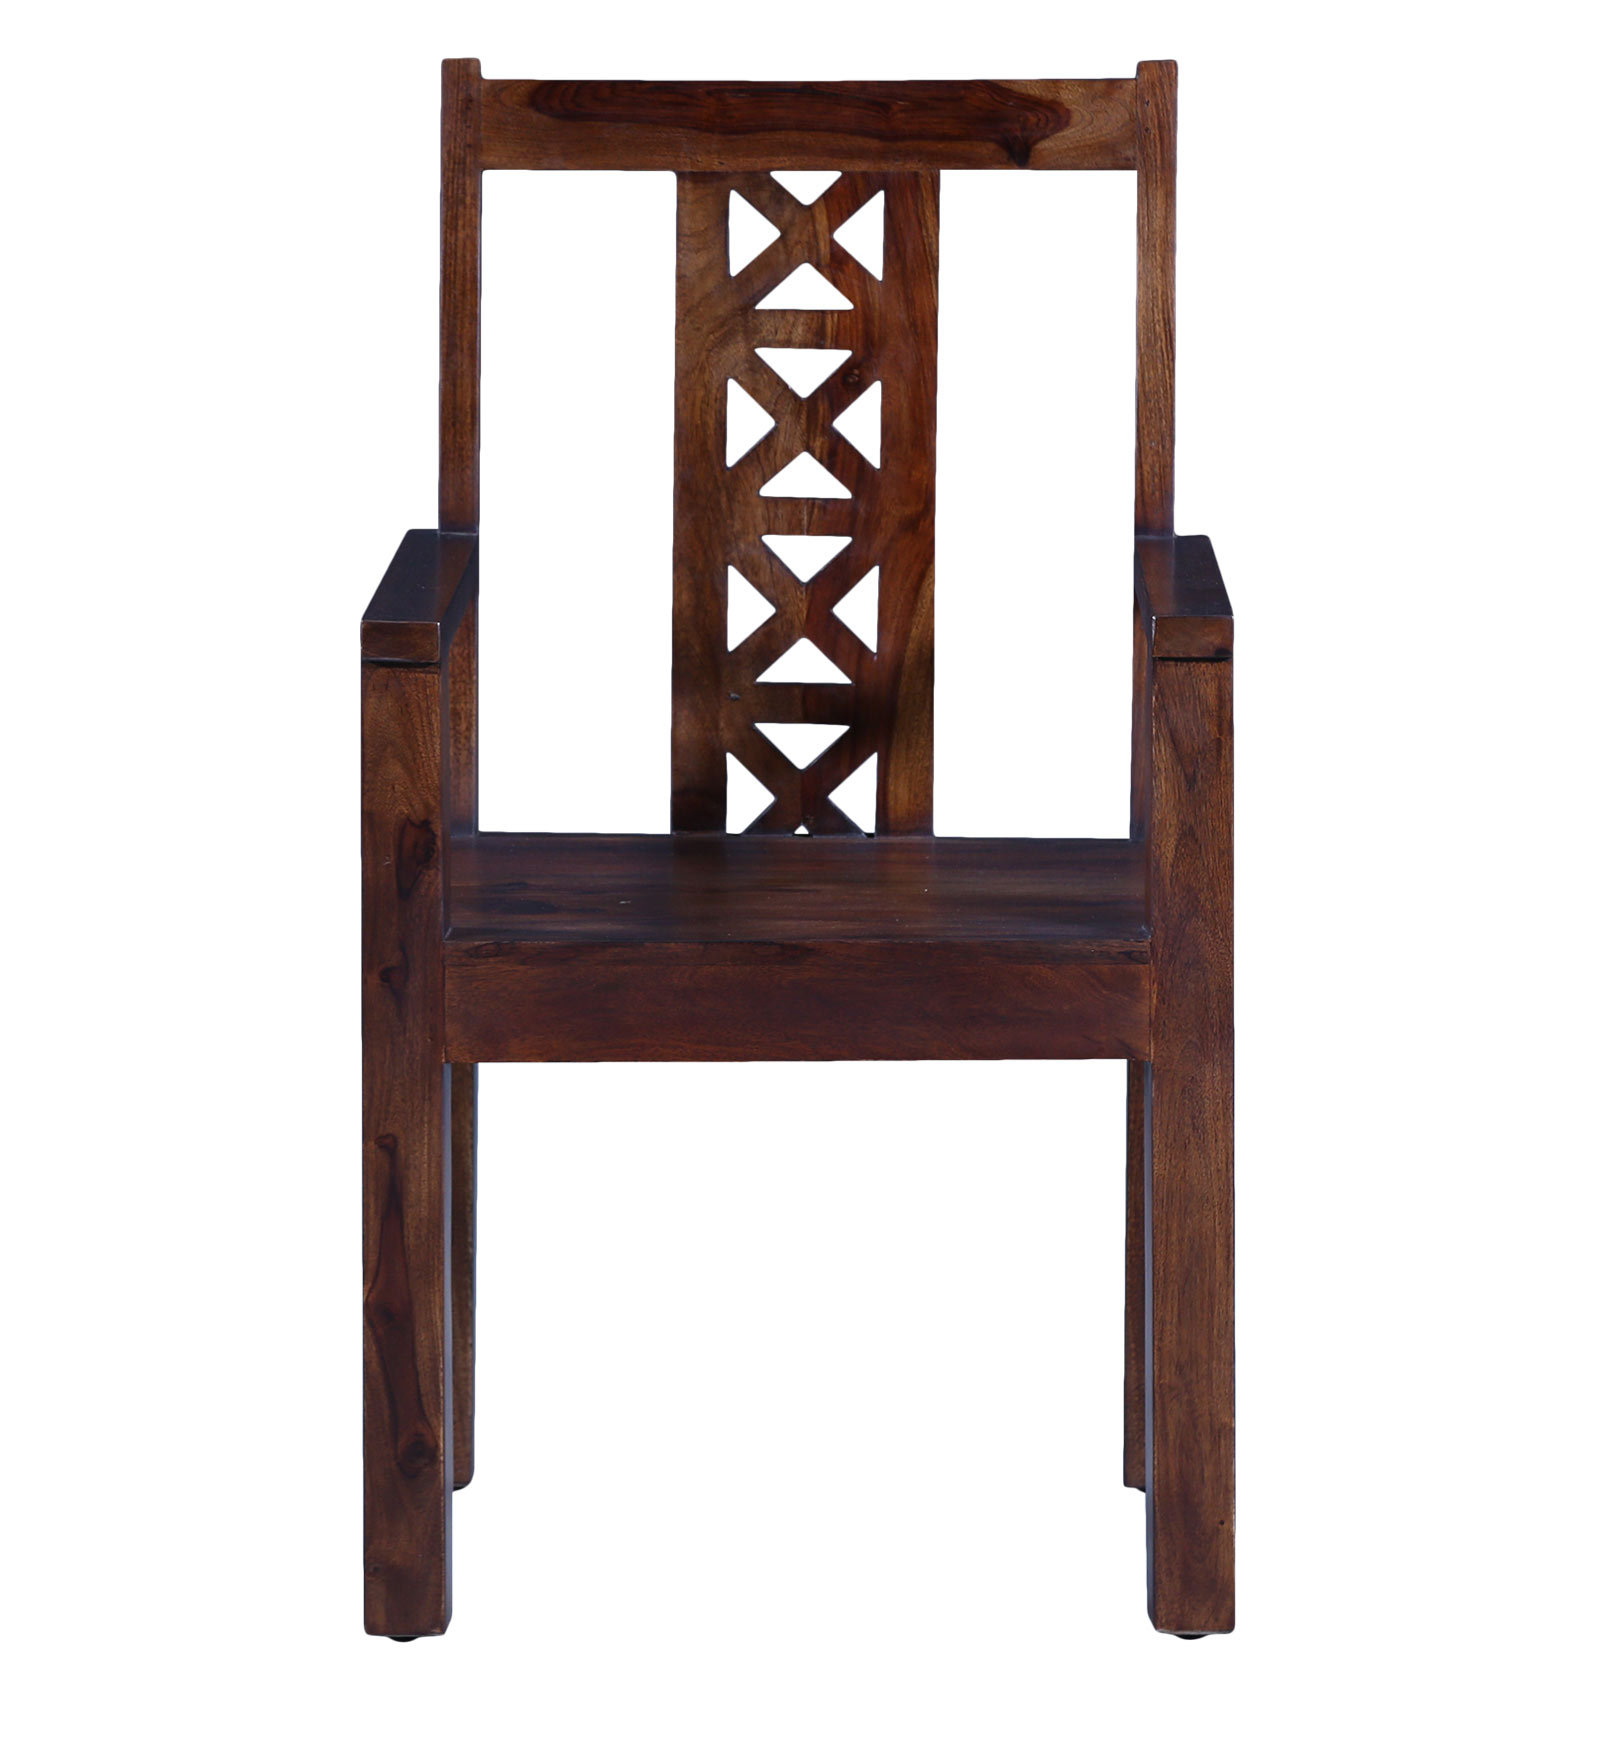Kryss Arm Chair in Provincial Teak Finish by Woodsworth: (293, 38, 1293, 1685)
